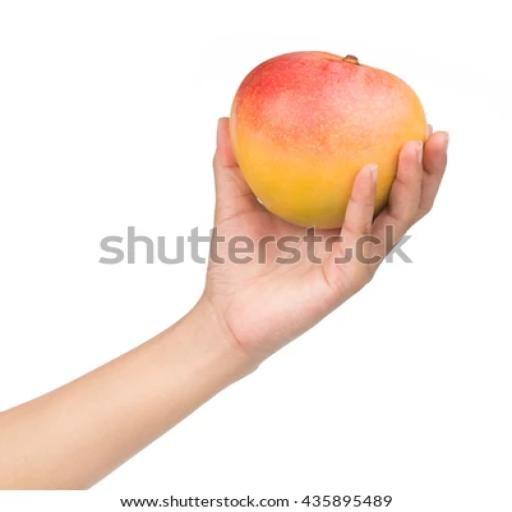mango: (230, 53, 426, 227)
